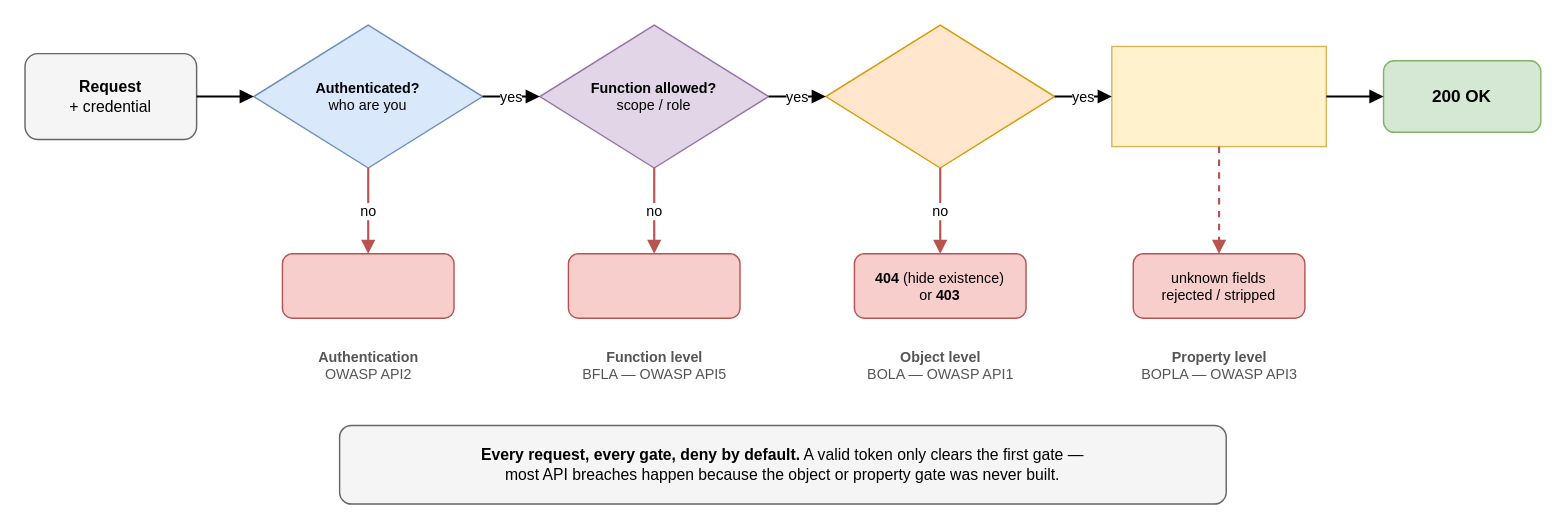
Some shapes in this 1566 by 529 pixel diagram are drawn without their labels. Here are the shapes that lost their labels. From the top down, the box of each, then its label:
(824, 24, 1055, 168): Object allowed? owner / tenant / relation
(1110, 45, 1326, 147): Filter properties writable fields in, visible fields out
(281, 252, 454, 318): 401 Unauthorized
(567, 252, 740, 318): 403 Forbidden
